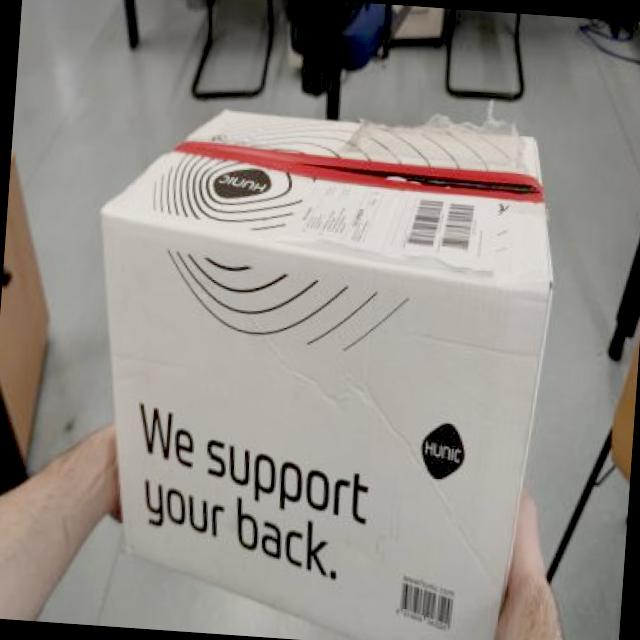box: (52, 62, 623, 640)
